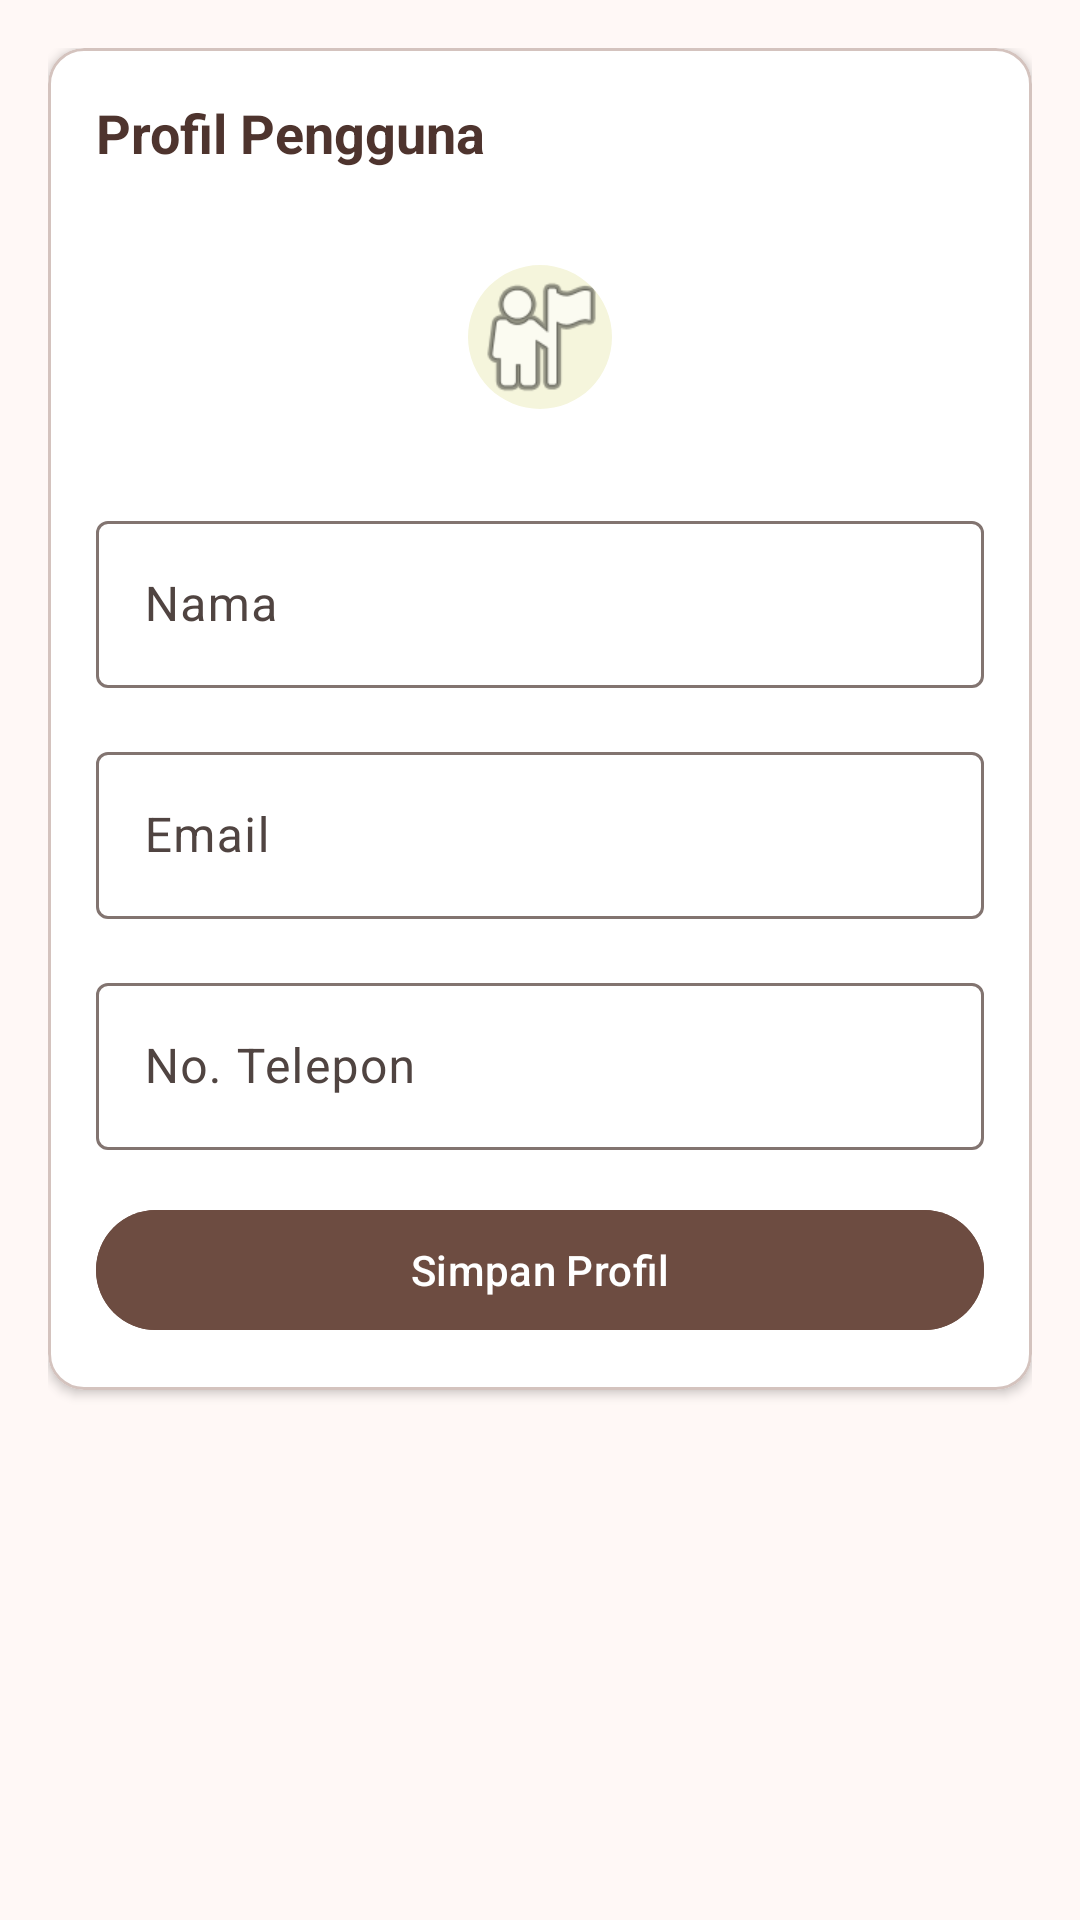

Where icons sit on this 1080px x 1920px app screen, as [x1=x1, y1=y1, x2=x2, y2=y2]:
myplaces: [x1=468, y1=265, x2=612, y2=409]
